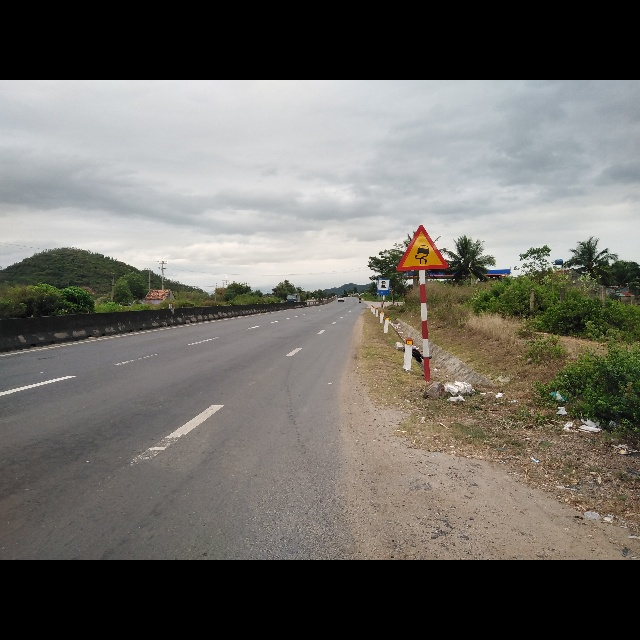Đường trơn trượt: (397, 221, 449, 272)
